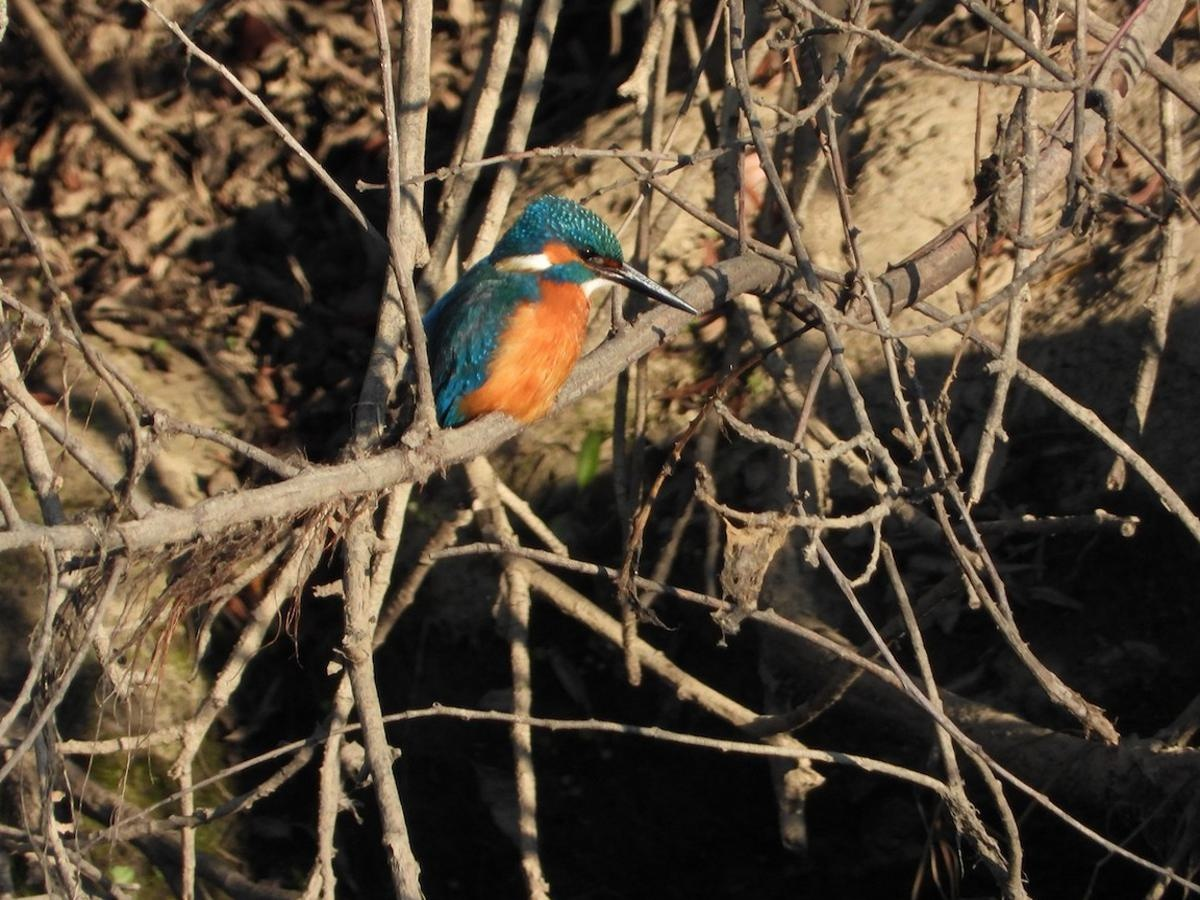kingfisher: (381, 185, 712, 428)
